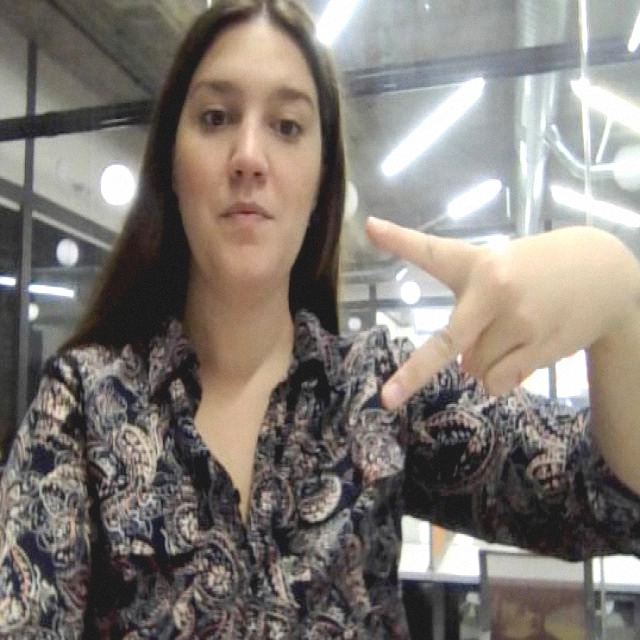Scissors: (359, 209, 619, 420)
